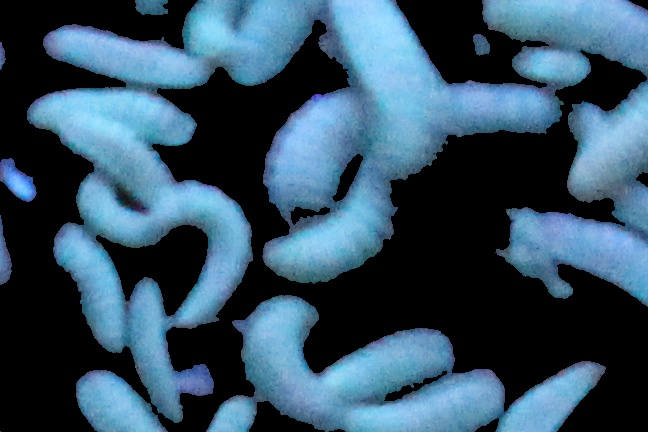larvae: (323, 1, 454, 189), (507, 196, 648, 316), (251, 172, 396, 283), (33, 18, 219, 98), (474, 1, 647, 81), (43, 220, 134, 353), (241, 299, 334, 429), (261, 73, 347, 211), (162, 180, 245, 318), (119, 277, 193, 419), (34, 80, 196, 143), (349, 367, 504, 432), (568, 77, 648, 197), (498, 344, 607, 432), (313, 324, 453, 389), (435, 77, 560, 141), (59, 119, 169, 189), (235, 1, 322, 81), (67, 370, 149, 432), (78, 185, 162, 245), (512, 38, 591, 87)
